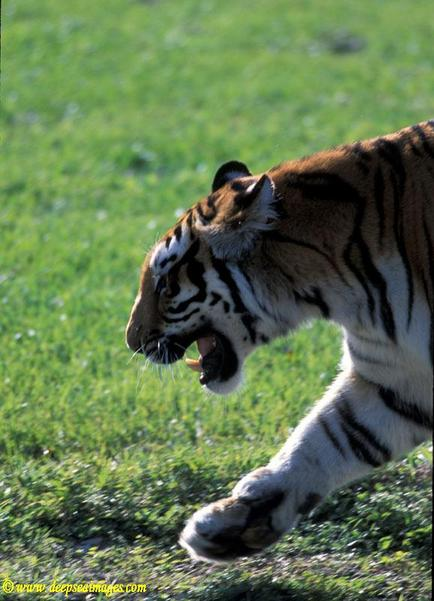Tigre: (109, 148, 417, 467)
